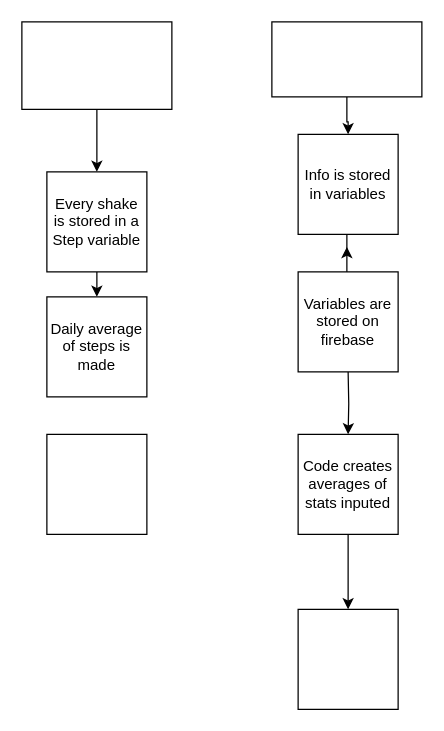
This 444x731 diagram has some shape labels left out. Here are the shapes that lost their labels. From the top down, the centre of each, then its label:
(x=96, y=65): Shake input
(x=346, y=59): User input
(x=347, y=658): Info is relied to user graphically and in written form
